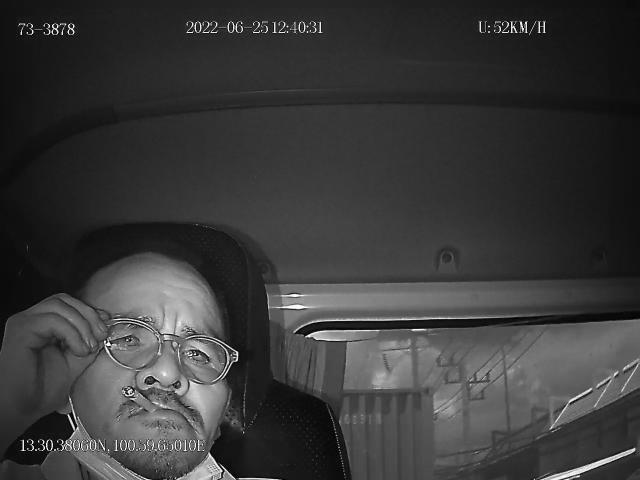SafeDriving: (174, 334, 219, 372), (111, 326, 148, 352)
Smoking: (122, 383, 158, 411)
